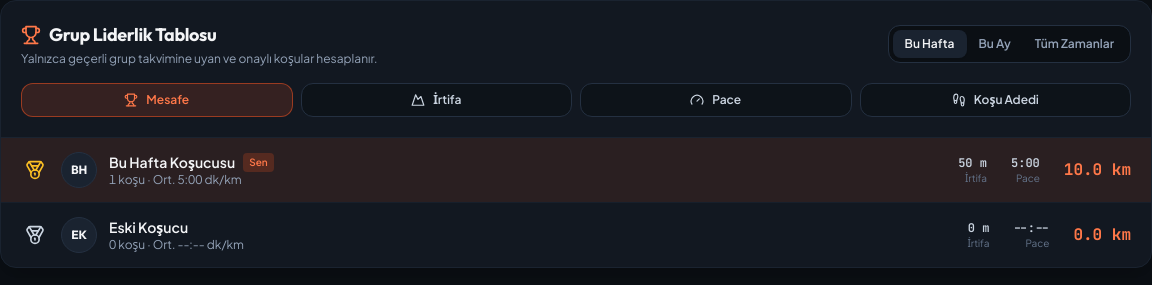
Test: Leaderboard varsayılan dönem seçimi › ilk açılışta 'Bu Hafta' seçili gelir
Expected: the text "10.0 km" is shown, [1064,158,1131,182]
Tüm Zamanlar'a geçince 50.0 km öne geçmeli
What coordinates should you click on to do the following:
click the button "Tüm Zamanlar"
I would click on:
 (1074, 44)
Its box is [1023,30,1126,58].
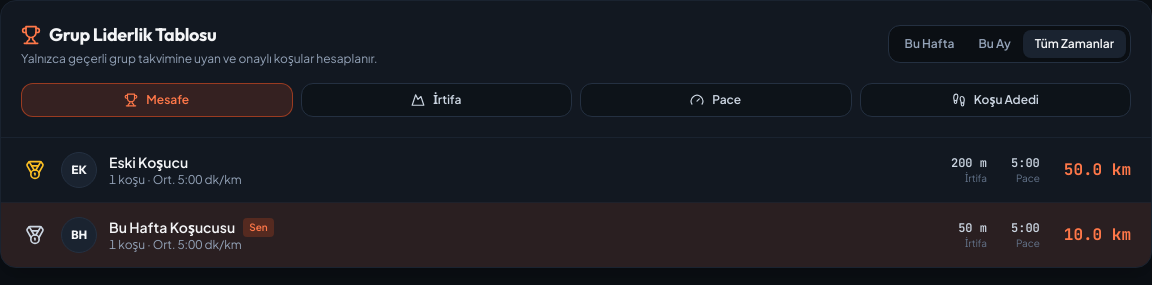
Expected: the text "50.0 km" is shown, [1064,158,1131,182]
